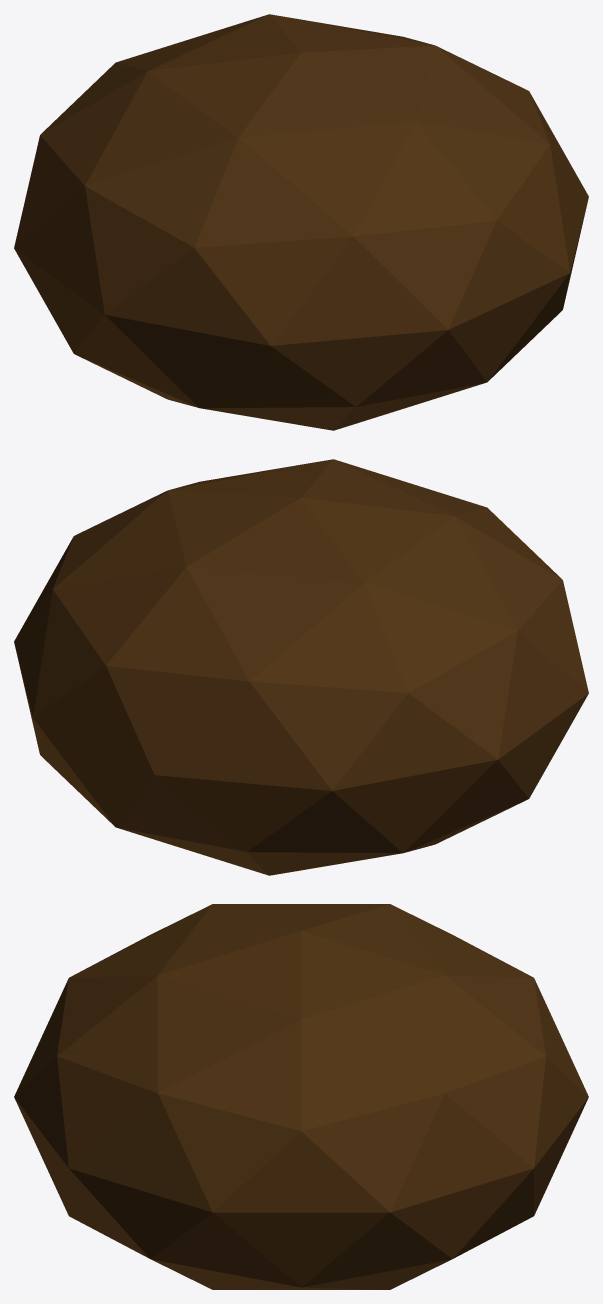
File: seed.fbx
3 views of the same model, one above another, from view 1: azimuth 30°, elevation 25°; view 2: azimuth 150°, elevation 25°; view 3: azimuth 270°, elevation 25° (orthographic). The views are drawn at different scales.
Visible parts, largest first — view 1: Icosphere; view 2: Icosphere; view 3: Icosphere.
Boxes of the visible parts, bbox=[...] form: Icosphere: bbox=[14, 14, 588, 430]; Icosphere: bbox=[14, 459, 588, 875]; Icosphere: bbox=[14, 904, 588, 1289].
Size of the model in its own units: 50.15 by 33.61 by 52.73.
